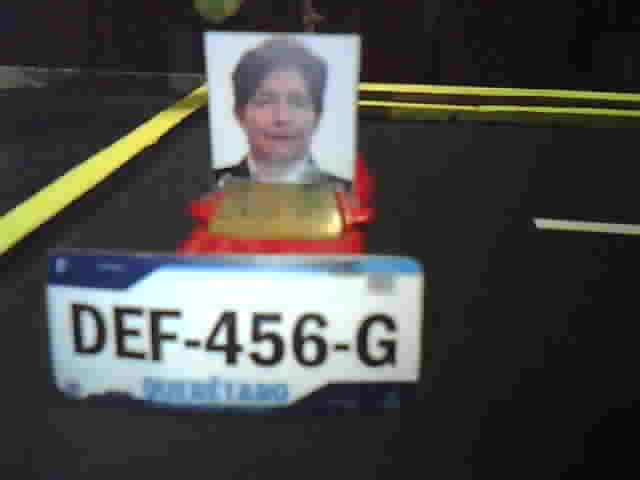PLACA: (43, 247, 428, 418)
ROSTRO: (211, 33, 349, 191)
